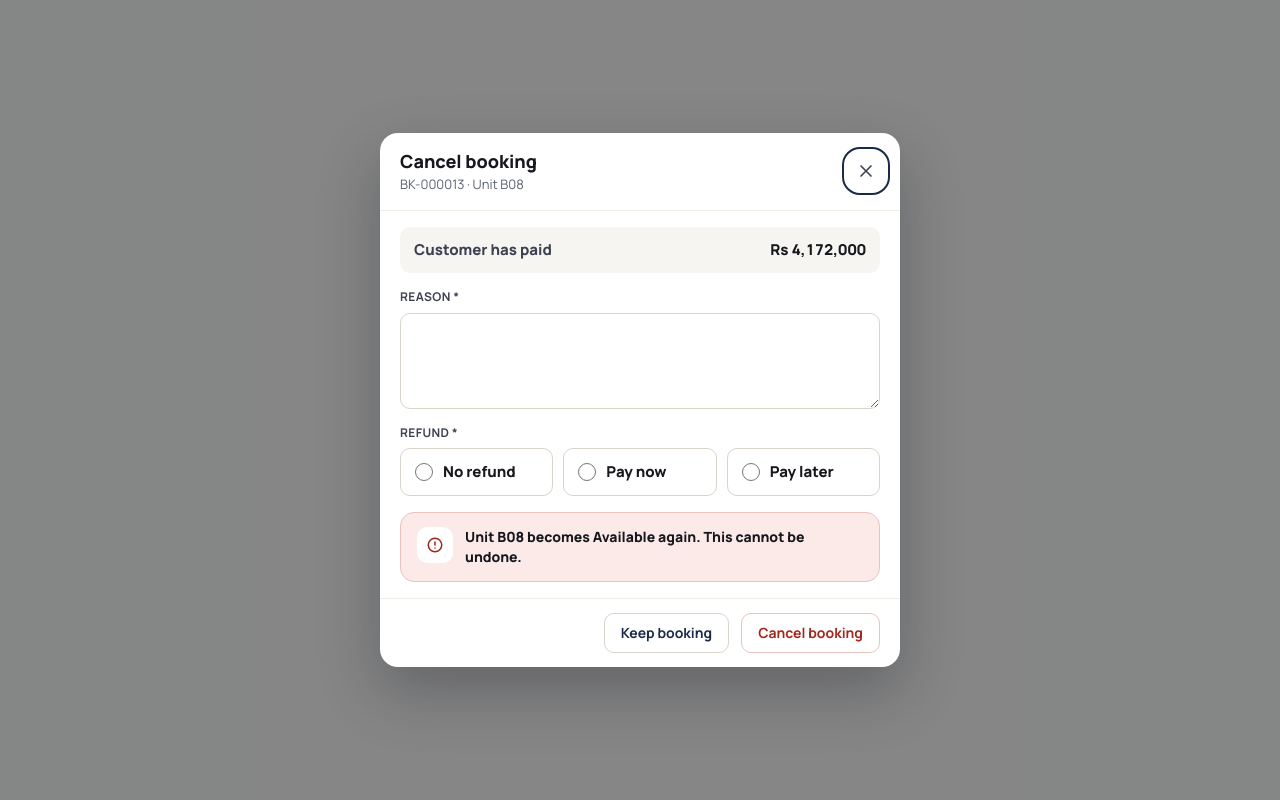
Test: Cancel booking › keeps the popup open with what was typed when the server refuses
Expected: the text "Customer has paid" is shown, [414,239,552,261]
Type "Customer moved abroad" into the text box labelled "Reason *" at coordinates (640, 361), box [400,313,880,409]
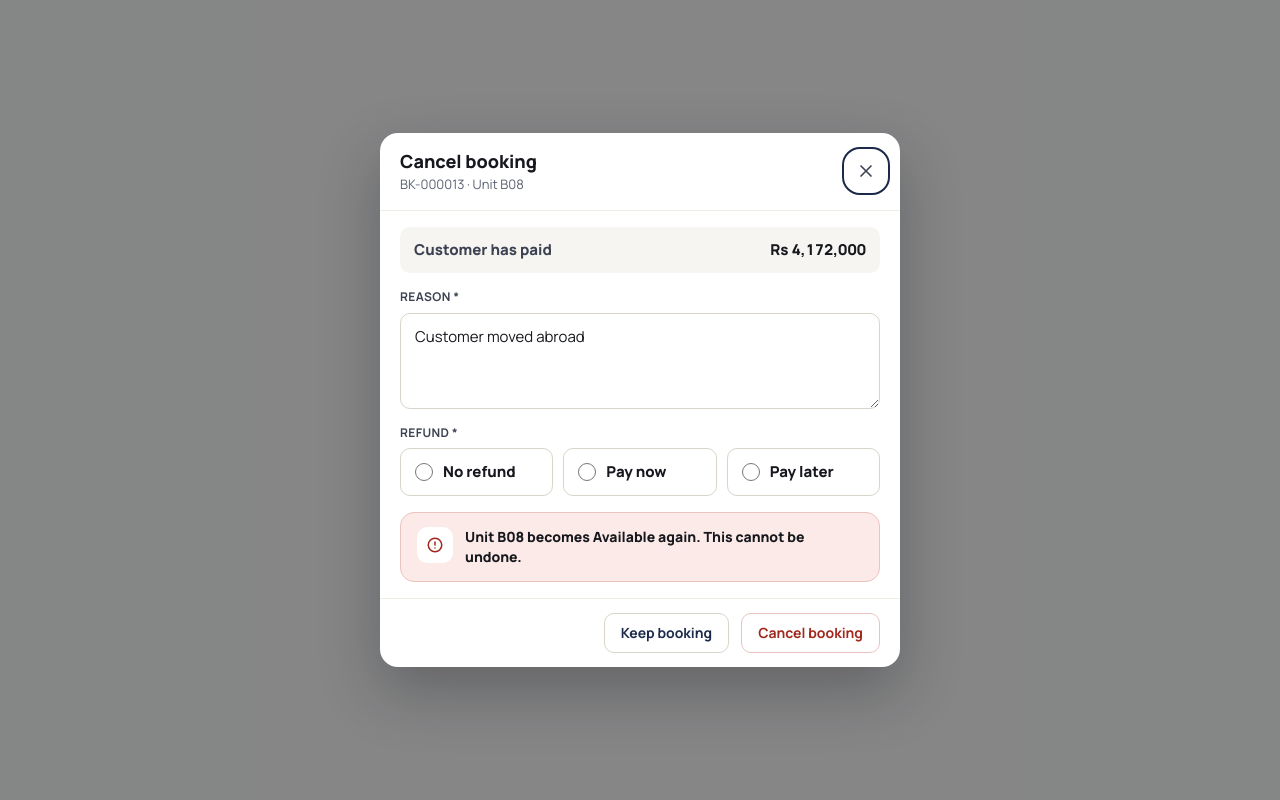
Click the radio button labelled "No refund" at coordinates (424, 472), box [415,463,433,481]
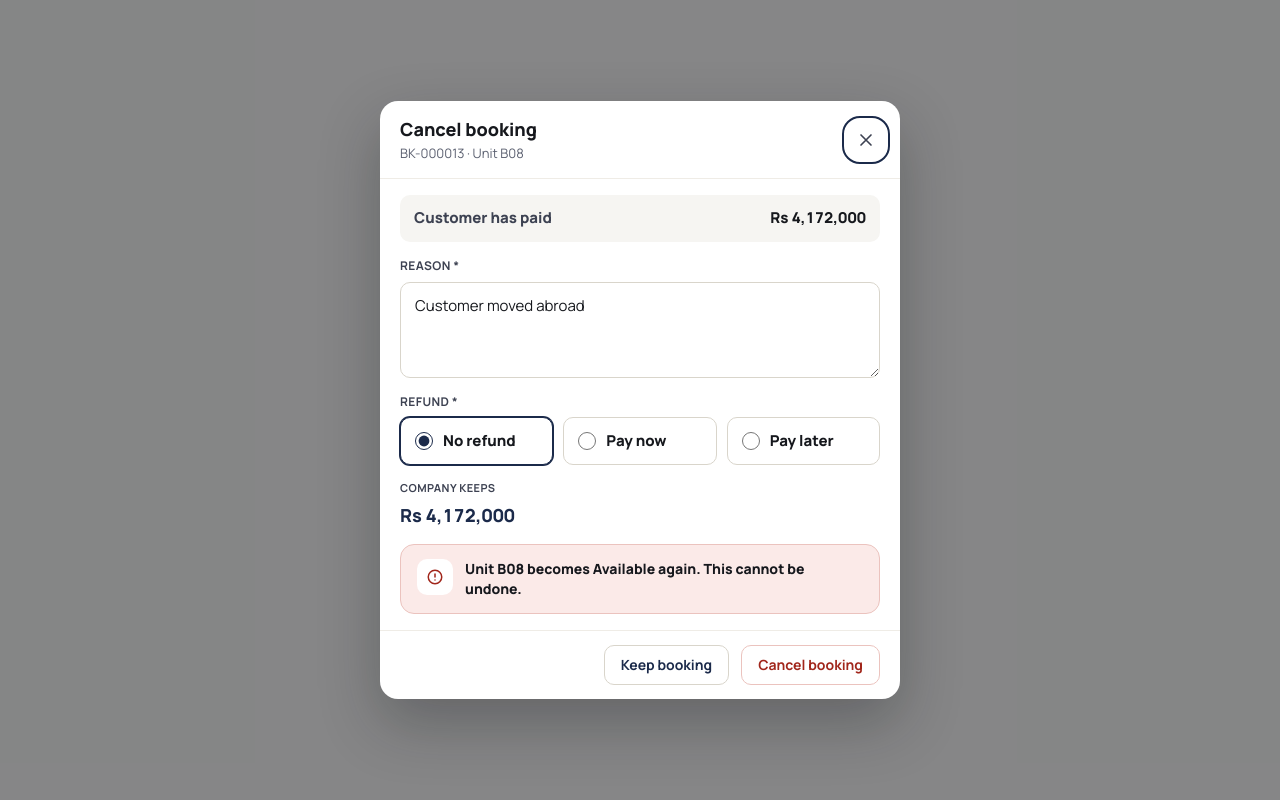
Click the button "Cancel booking" at coordinates (811, 665), box [741,645,880,685]
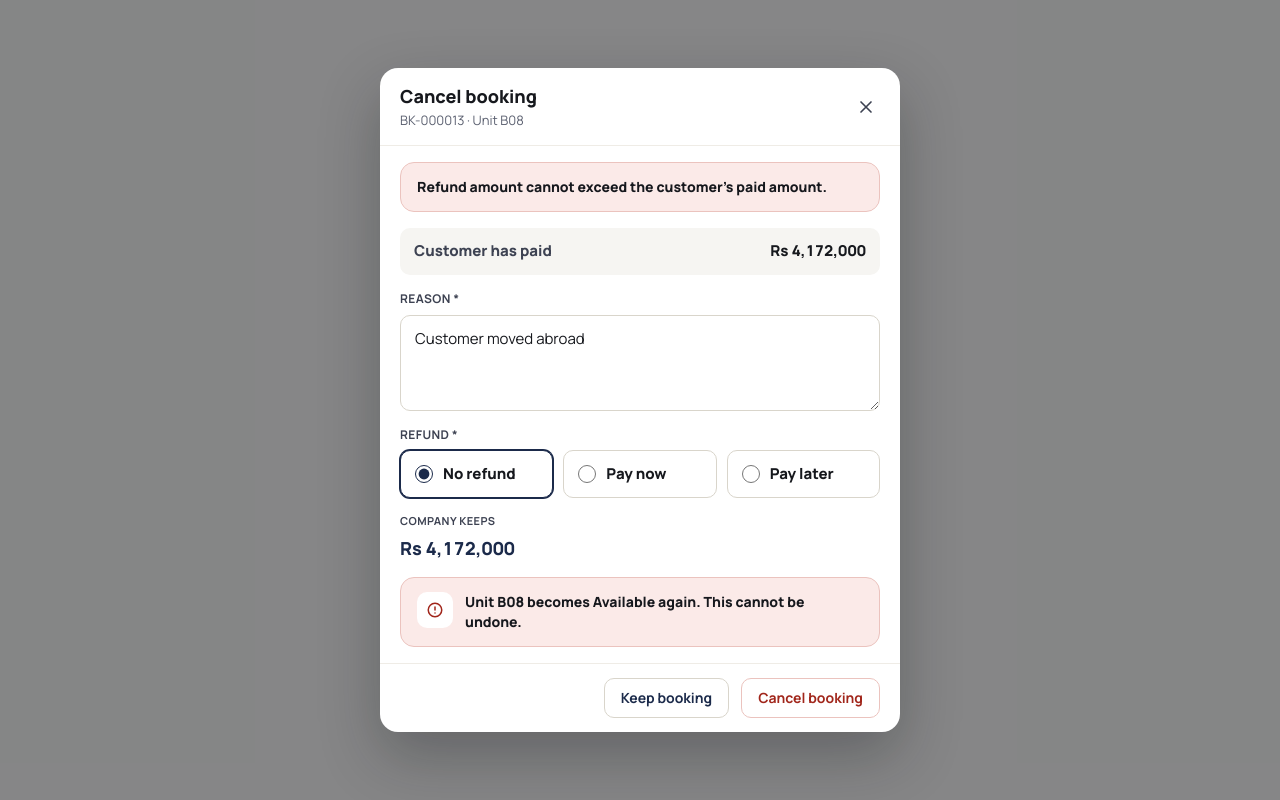
Result: the text "Refund amount cannot exceed the customer's paid amount." is shown at [417,177,863,197]
